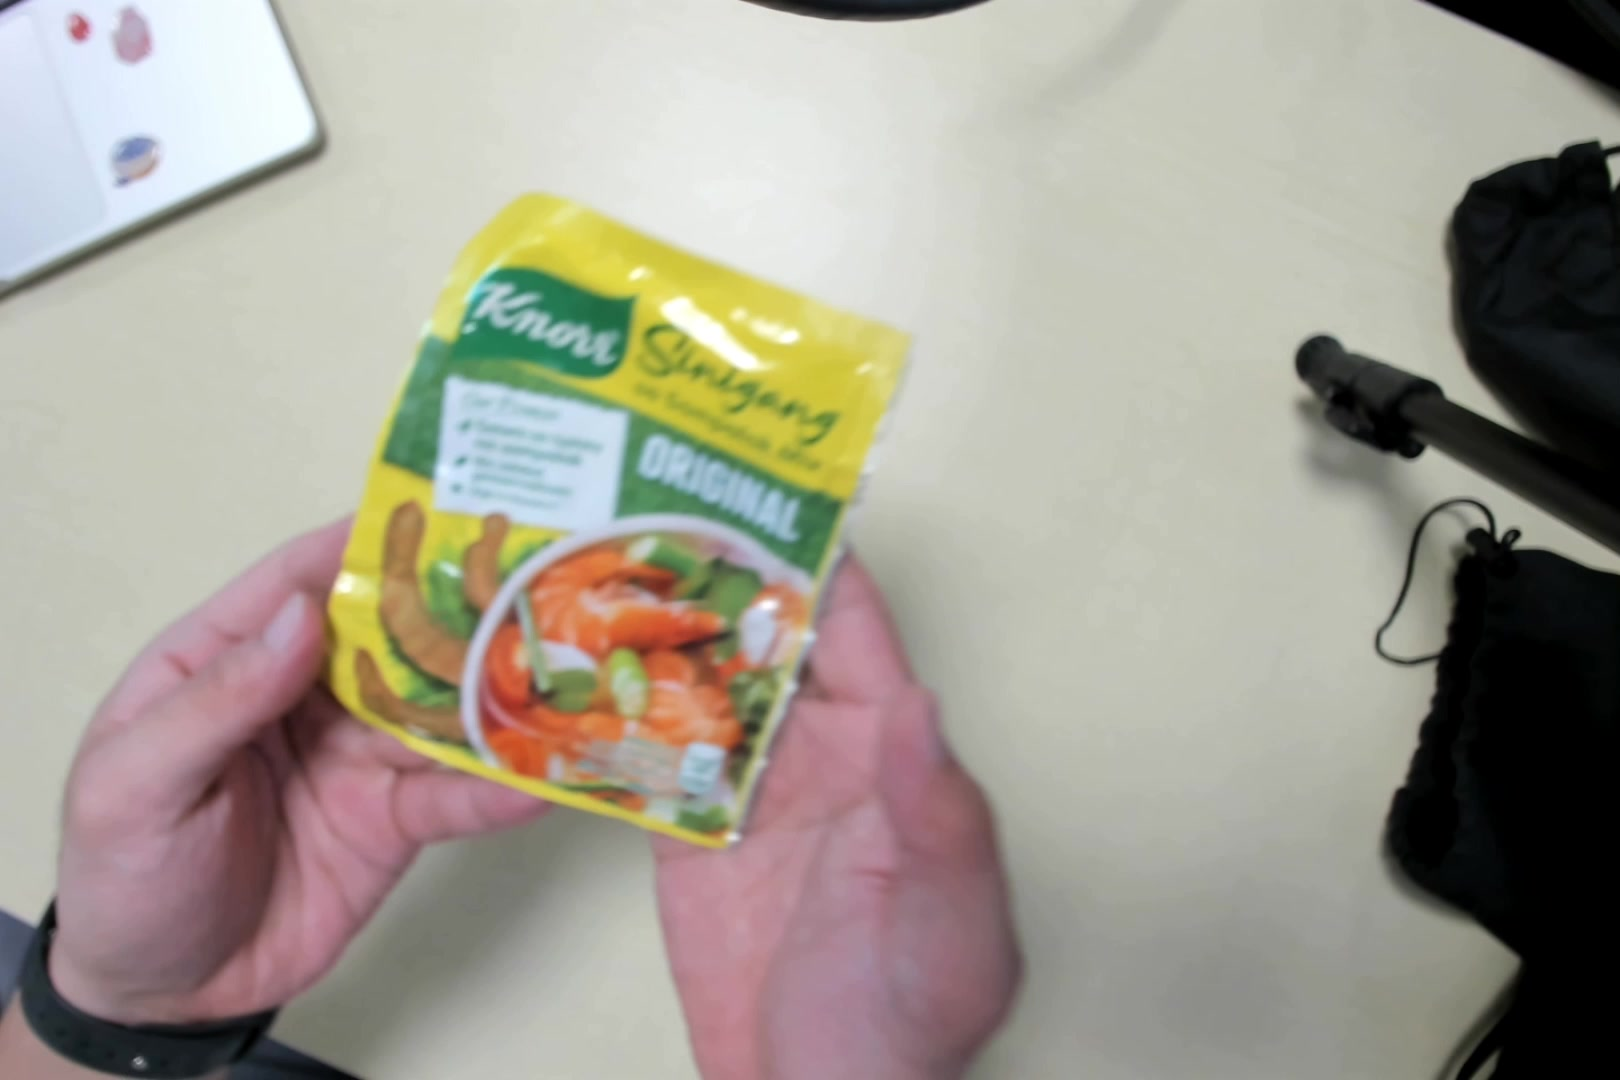SoupStock_0-99g_NonHalal_NonHealthy: (353, 189, 858, 855)
